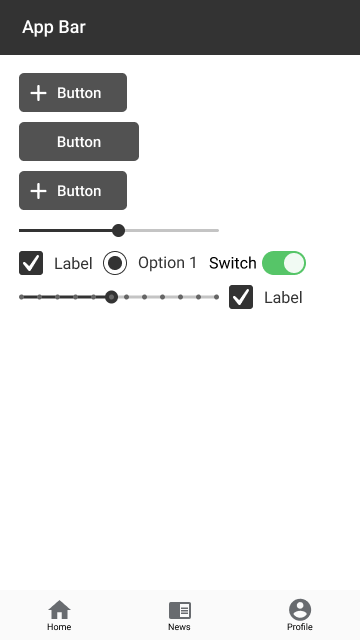button: (18, 121, 141, 164)
buttonImage: (17, 70, 128, 115), (17, 169, 128, 213)
checkBox: (228, 283, 304, 312), (17, 249, 93, 277)
navigationButton: (1, 590, 360, 639)
radioButton: (101, 250, 197, 275)
slider: (16, 289, 222, 306)
slider1: (17, 222, 222, 238)
switch: (210, 250, 307, 277)
toolbar: (1, 1, 359, 55)
